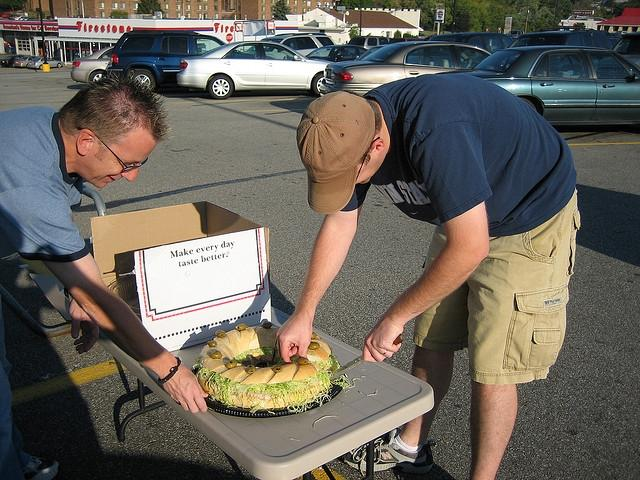lettuce: (236, 384, 256, 393), (298, 384, 308, 398), (312, 374, 322, 386), (282, 390, 288, 408), (207, 380, 212, 392), (298, 383, 308, 388), (318, 371, 326, 376), (239, 353, 246, 358), (298, 388, 302, 395), (202, 373, 205, 377), (342, 382, 344, 387), (276, 392, 280, 394), (222, 396, 224, 400), (288, 391, 292, 392), (256, 351, 260, 352), (264, 393, 264, 397)
